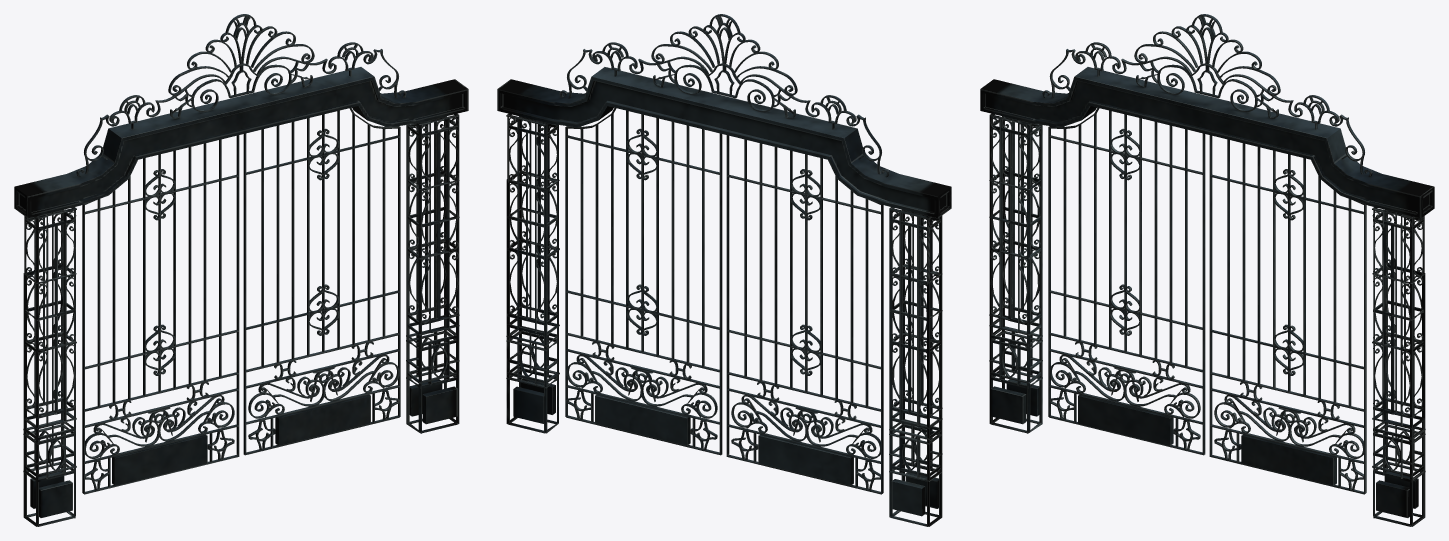
The model's file is SideGate.fbx.
The picture shows the model from 3 angles, left to right: view 1: azimuth 30°, elevation 25°; view 2: azimuth 150°, elevation 25°; view 3: azimuth 330°, elevation 25°; orthographic projection.
Visible parts, largest first — view 1: Gate_SIde; view 2: Gate_SIde; view 3: Gate_SIde.
Boxes of the visible parts, <box> form: Gate_SIde: <box>14,14,468,526</box>; Gate_SIde: <box>497,14,951,526</box>; Gate_SIde: <box>980,14,1434,526</box>.
Size of the model in its own units: 518 by 512 by 30.25.
1 material, 1 textured.
